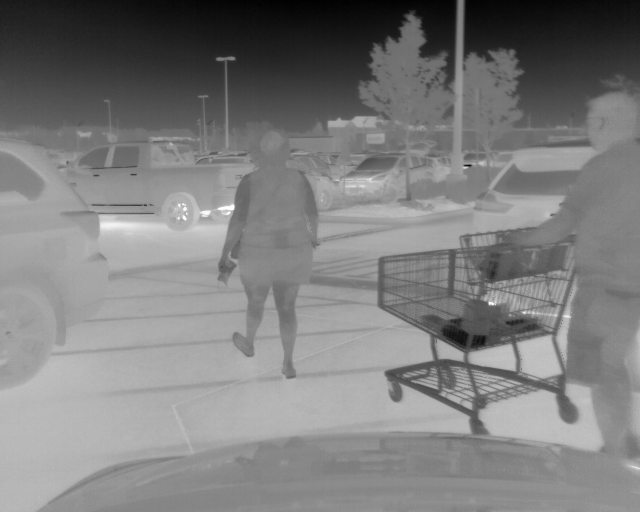car: (475, 140, 640, 325), (1, 137, 113, 389), (52, 139, 254, 229), (339, 151, 444, 203), (287, 158, 338, 211), (464, 149, 491, 174)
people: (504, 93, 640, 463), (221, 132, 318, 380)
